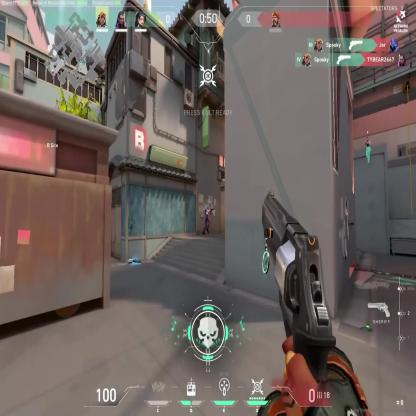enemy: (203, 204, 212, 235)
enemy_head: (207, 204, 209, 209)
